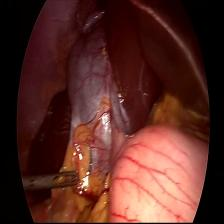Grasper: (26, 168, 81, 192)
